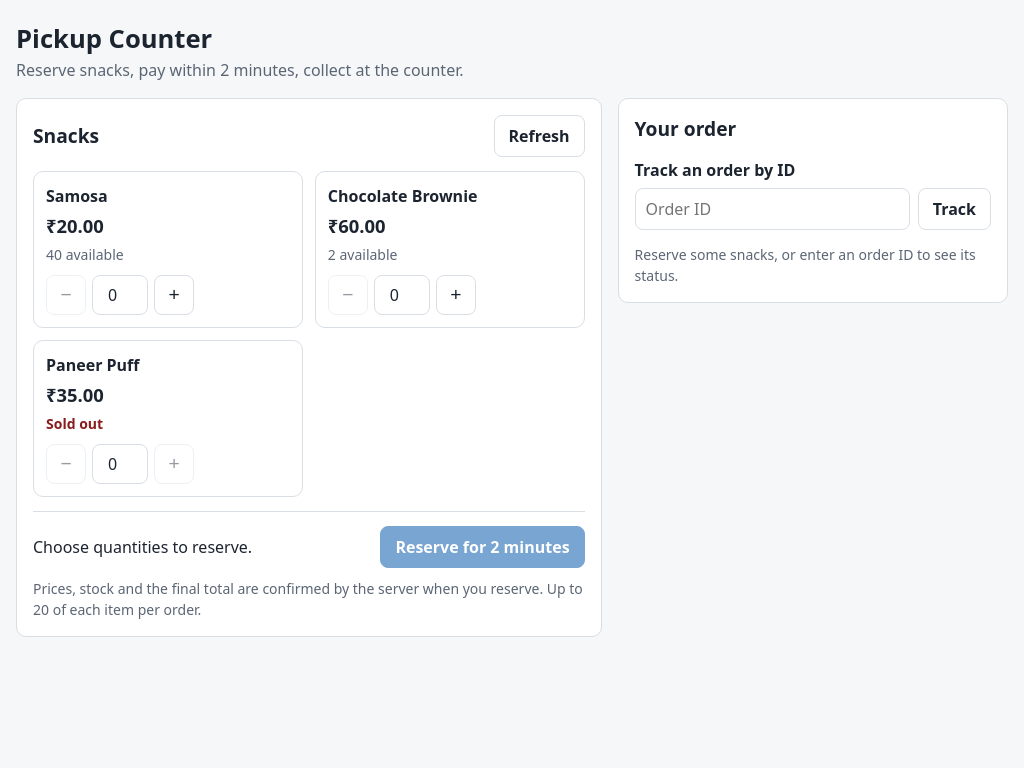
Test: order creation › explains a stock conflict using product names and refreshes availability
The width and height of the screenshot is (1024, 768).
Click the button named "Increase Chocolate Brownie": (456, 295) [436, 275, 476, 315]
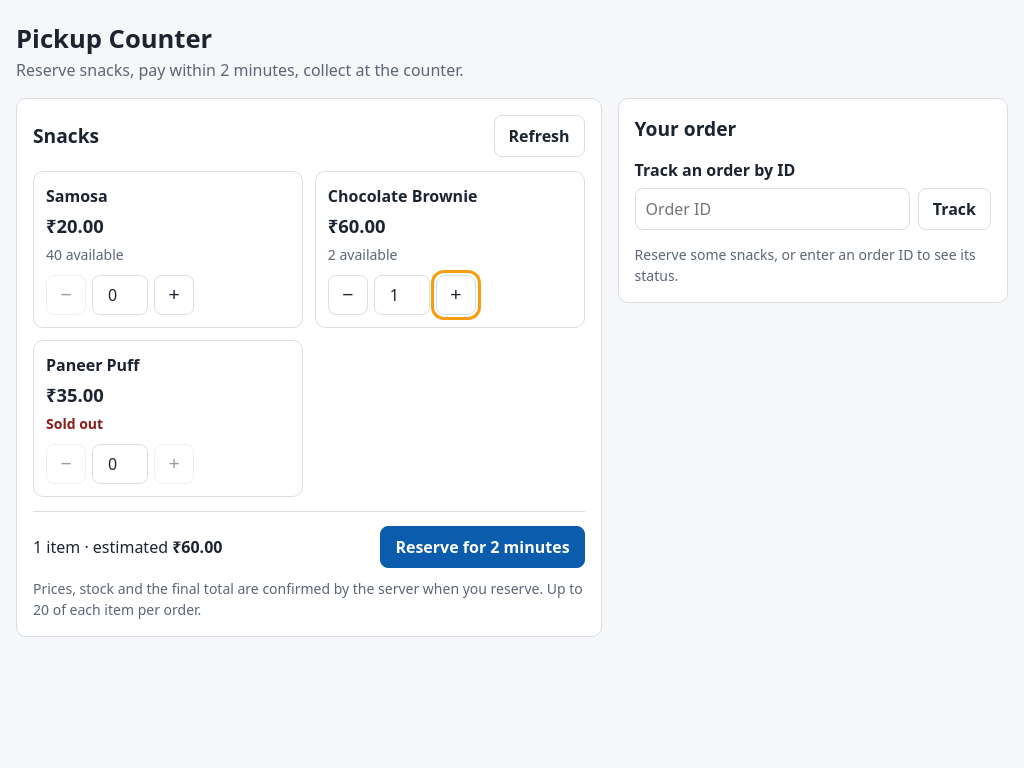
Click the button named "Increase Chocolate Brownie": (456, 295) [436, 275, 476, 315]
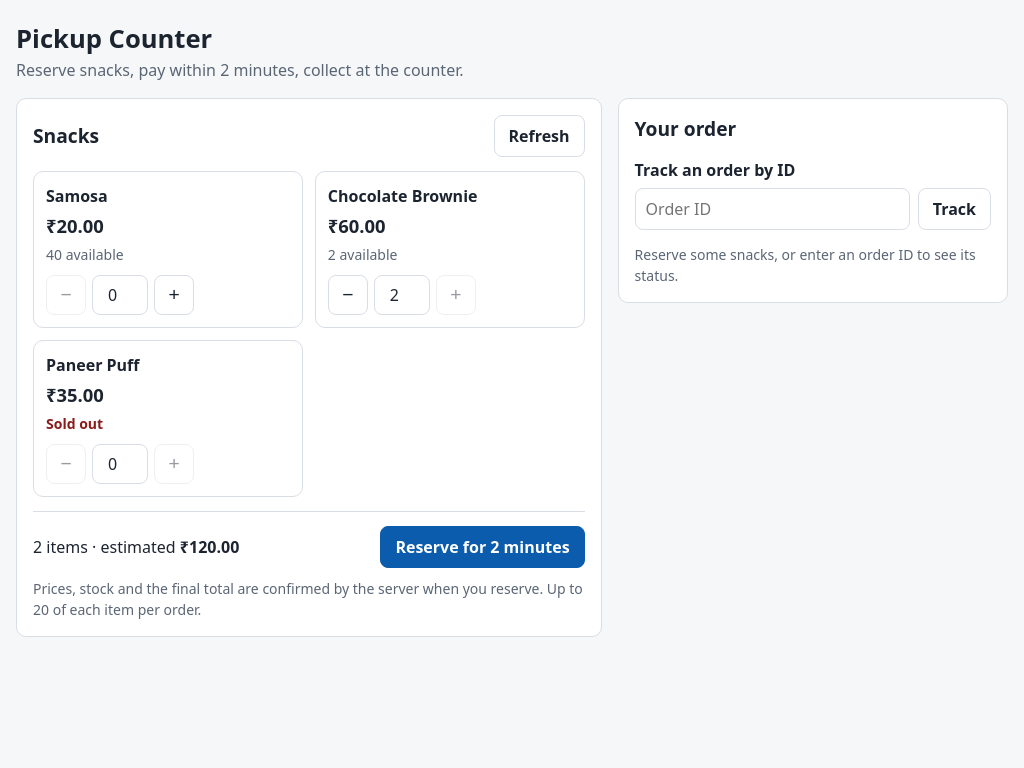
Click the button "Reserve for 2 minutes": (482, 547) [380, 526, 585, 568]
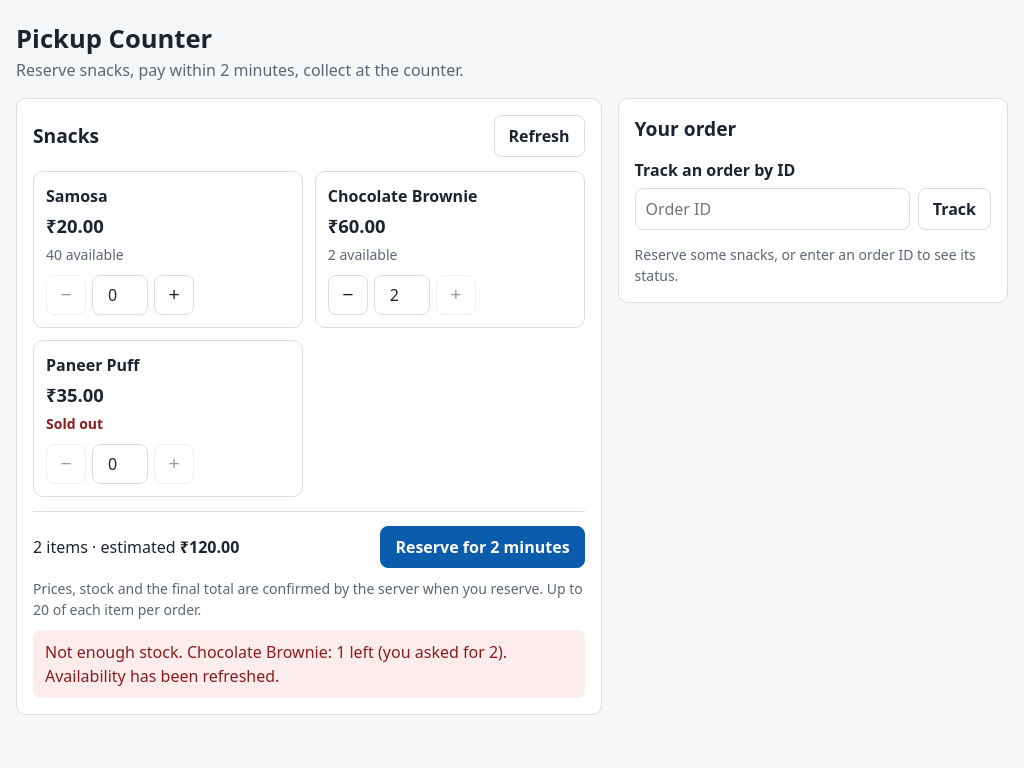
Now the message shows "Not enough stock. Chocolate Brownie: 1 left (you asked for 2). Availability has been refreshed.", box [45, 641, 507, 687]
